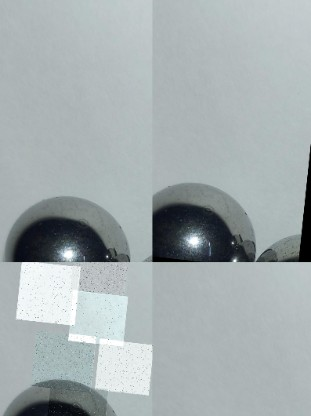ironball: (2, 183, 136, 261), (153, 175, 254, 260), (3, 379, 113, 415), (256, 232, 298, 261)
